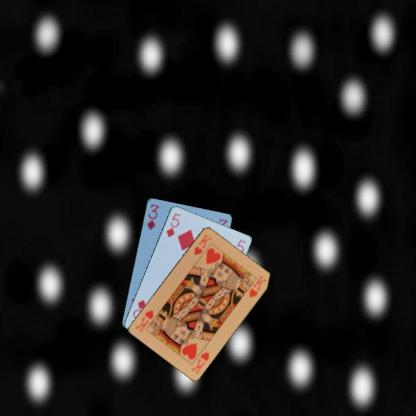3d: (144, 202, 160, 231)
5d: (164, 210, 182, 238)
Kh: (188, 349, 211, 375), (191, 231, 213, 256)
